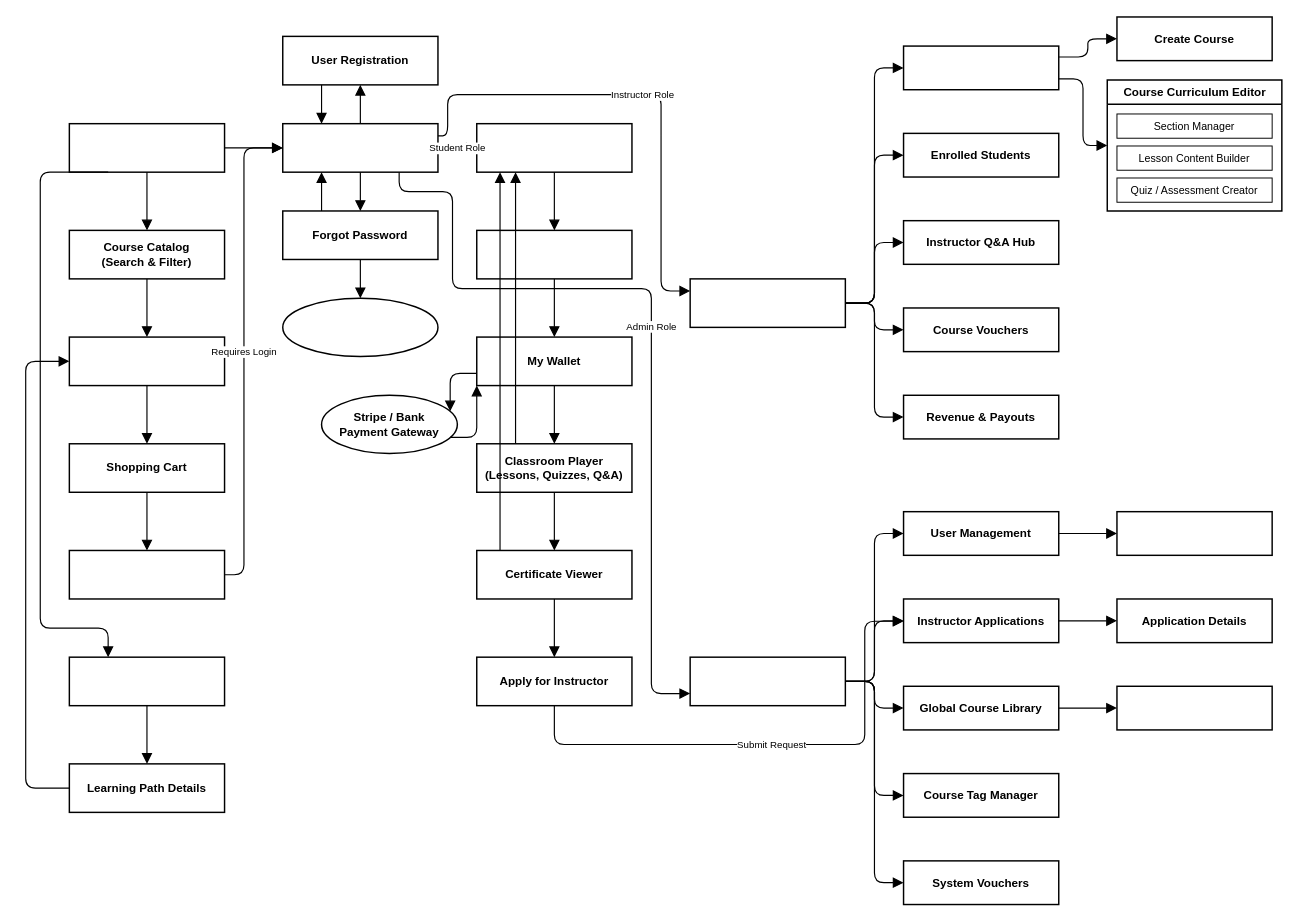
The diagram is 1300 pixels wide and 922 high, and some of its shapes have lost their labels. The centre of each missing label's shape, as x and y in pixels:
"Admin Control Panel" belongs at [767,681].
"Checkout Page" belongs at [146,574].
"Course Details" belongs at [146,361].
"Course Management" belongs at [980,67].
"Course Review Details" belongs at [1194,707].
"Email Service (OTP & Links)" belongs at [360,327].
"Home Page" belongs at [146,147].
"Instructor Dashboard" belongs at [767,303].
"Learning Path Catalog" belongs at [146,681].
"My Profile (Edit Profile / PW)" belongs at [554,254].
"Student Dashboard (My Courses)" belongs at [554,147].
"User Details" belongs at [1194,533].
"User Login" belongs at [360,147].
